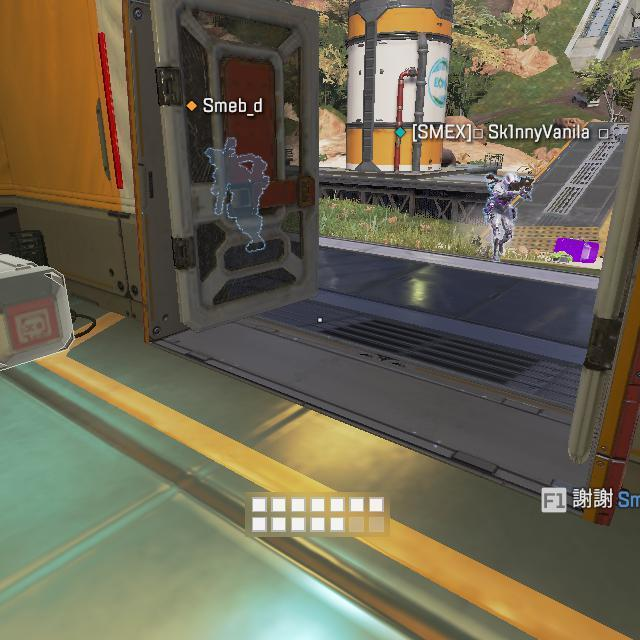avatar: (483, 170, 535, 262)
